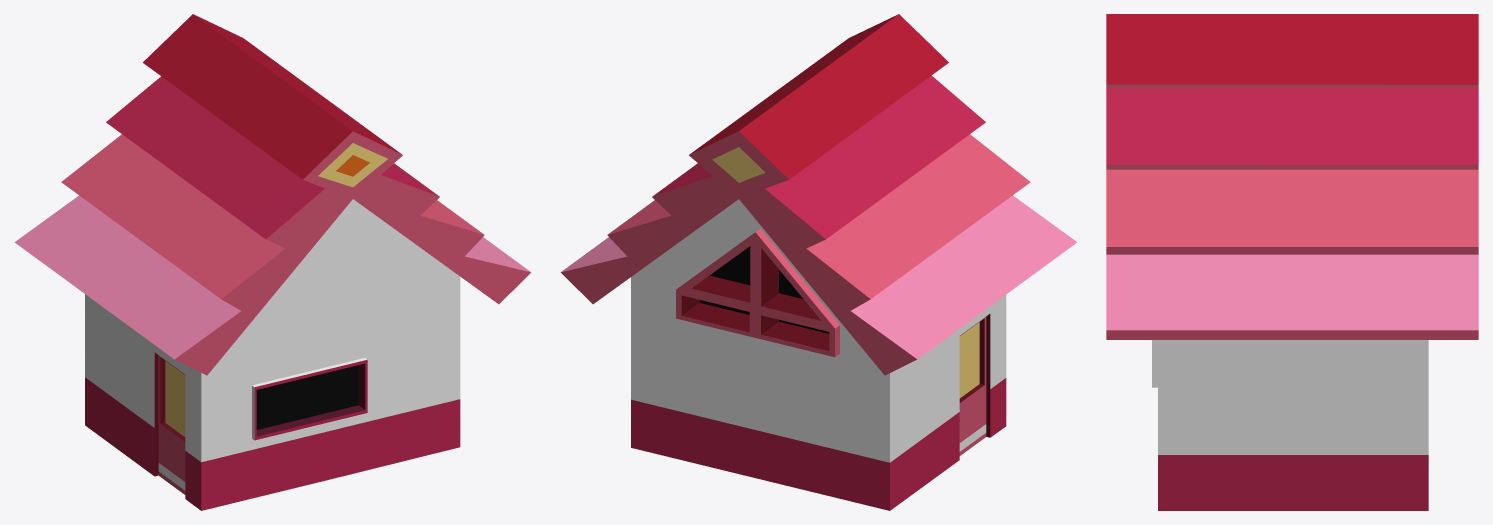
Rendered from House1-1.fbx.
3 views of the same model, side by side, from view 1: azimuth 30°, elevation 25°; view 2: azimuth 150°, elevation 25°; view 3: azimuth 270°, elevation 25° (orthographic). The views are drawn at different scales.
Parts seen in each view (by area): view 1: Box005; view 2: Box005; view 3: Box005.
Boxes of the visible parts, bbox=[...] form: Box005: bbox=[14, 14, 530, 510]; Box005: bbox=[561, 14, 1077, 510]; Box005: bbox=[1106, 14, 1478, 510].
Size of the model in its own units: 0.8121 by 0.7924 by 0.6309.
